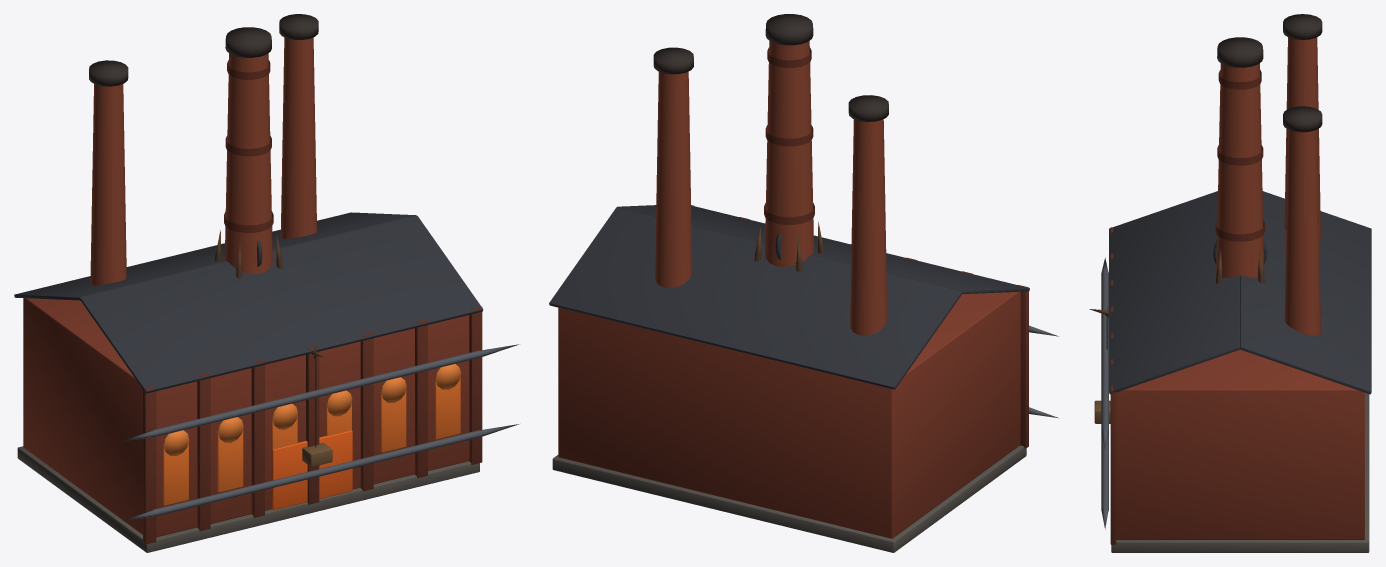
The model's file is ashport.glb.
3 views of the same model, side by side, from view 1: azimuth 30°, elevation 25°; view 2: azimuth 150°, elevation 25°; view 3: azimuth 270°, elevation 25° (orthographic). The views are drawn at different scales.
Visible parts, largest first — view 1: foundry, stack, furnace, crane; view 2: foundry, stack, furnace; view 3: foundry, stack, furnace, headframe, crane.
Boxes of the visible parts, bbox=[...] form: foundry: bbox=[14, 14, 518, 552]; stack: bbox=[224, 27, 273, 272]; furnace: bbox=[224, 215, 272, 274]; crane: bbox=[302, 347, 332, 466]; foundry: bbox=[549, 47, 1058, 552]; stack: bbox=[764, 14, 814, 265]; furnace: bbox=[765, 210, 814, 267]; foundry: bbox=[1101, 14, 1371, 552]; stack: bbox=[1215, 37, 1264, 277]; furnace: bbox=[1216, 230, 1264, 277]; headframe: bbox=[1213, 240, 1267, 283]; crane: bbox=[1089, 307, 1110, 423].
Bounding box in the file's own units: 22.05 × 23.77 × 13.63.
